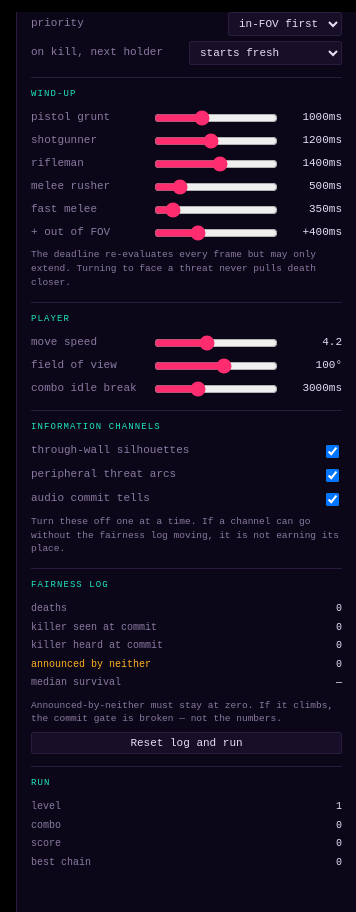
Scenario: App › resets the run
(page scrolled)
Click the button "Reset log and run": (186, 743) [31,732,342,754]
(page scrolled)
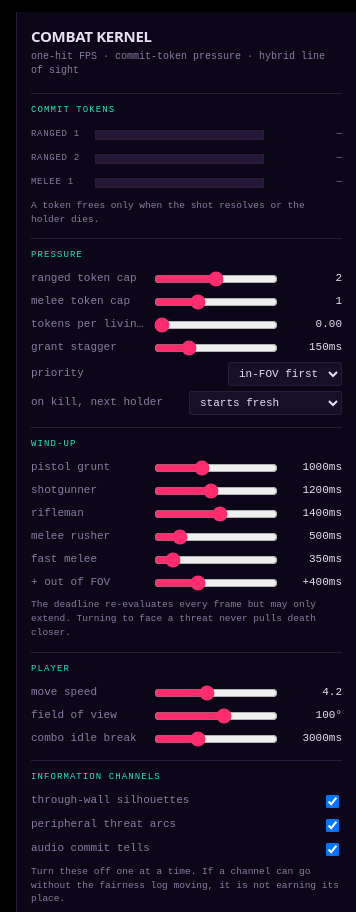
Check: the heading "Combat kernel" is shown, box [31,26,152,46]
